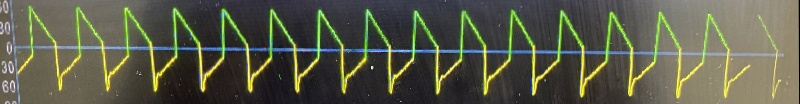peepi: (11, 0, 763, 102)
